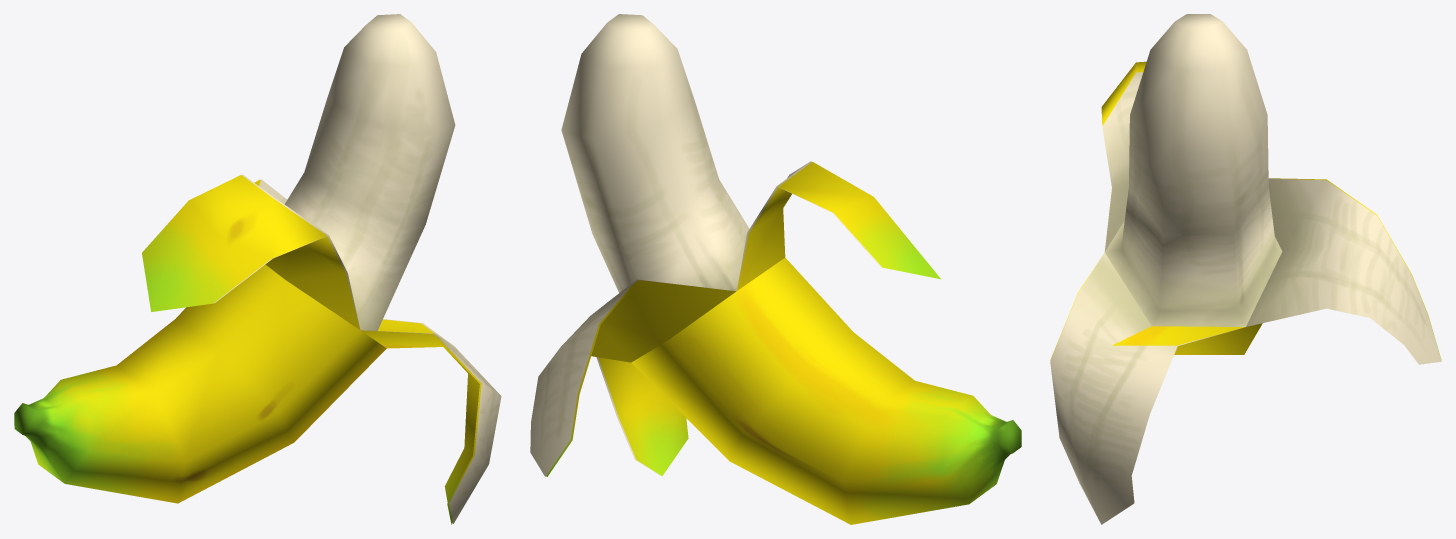
Rendered from banana-peeled.fbx.
The picture shows the model from 3 angles, left to right: view 1: azimuth 30°, elevation 25°; view 2: azimuth 150°, elevation 25°; view 3: azimuth 270°, elevation 25°; orthographic projection. The views are drawn at different scales.
Parts seen in each view (by area): view 1: banana-peeled; view 2: banana-peeled; view 3: banana-peeled.
Part boxes in pixels (x1=…): banana-peeled: x1=14, y1=14, x2=501, y2=524; banana-peeled: x1=530, y1=14, x2=1021, y2=524; banana-peeled: x1=1050, y1=14, x2=1441, y2=524.
Size of the model in its own units: 2.3 by 2.43 by 1.74.
